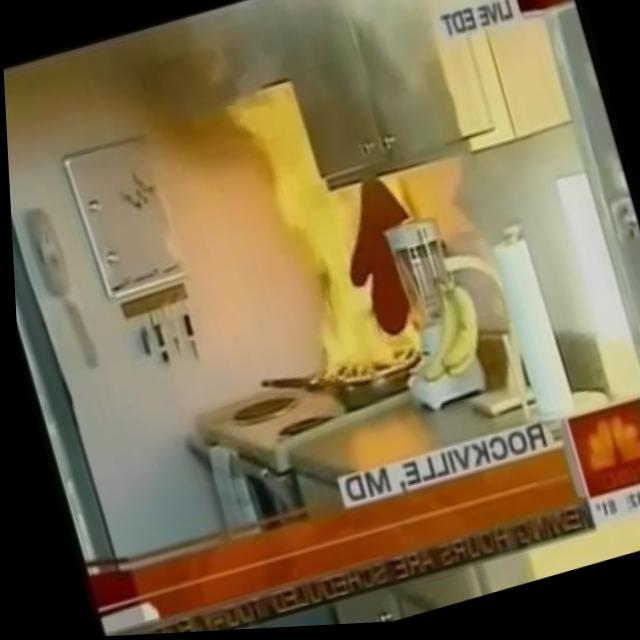fire: (227, 65, 436, 404)
